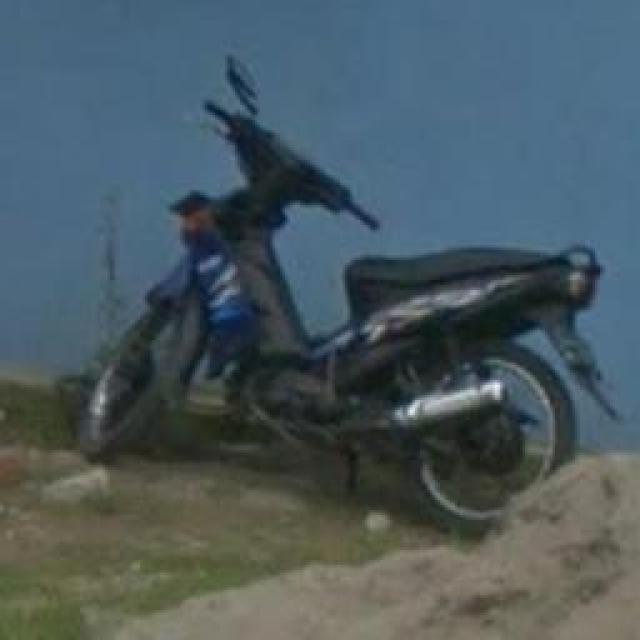motorcycle: (75, 52, 621, 540)
